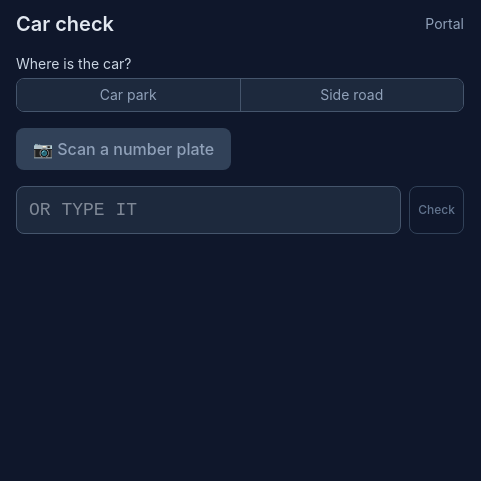
it: Car check › a car with a licence today reads allowed, with its bay and holder
Step 1. Click the radio button labelled "Car park" → (128, 95), box x1=17 y1=79 x2=240 y2=111
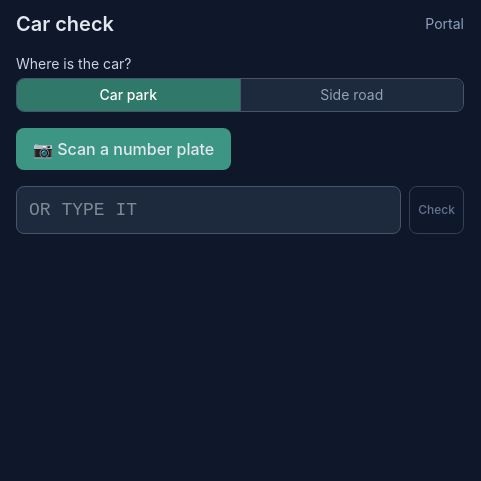
Step 2. Type "AB12 CDE" into the field with placeholder "Or type it" → (209, 210), box x1=16 y1=186 x2=401 y2=234
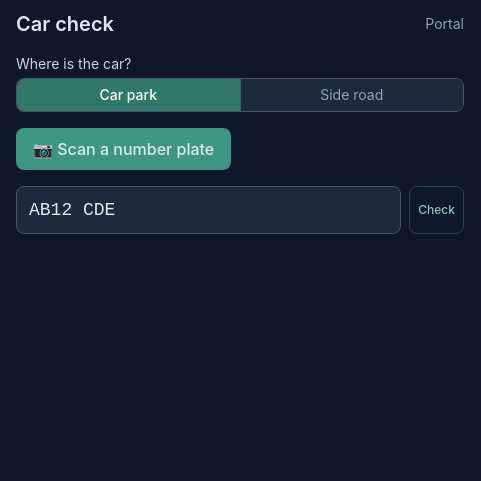
Step 3. Click the button "Check" → (437, 210), box x1=409 y1=186 x2=464 y2=234
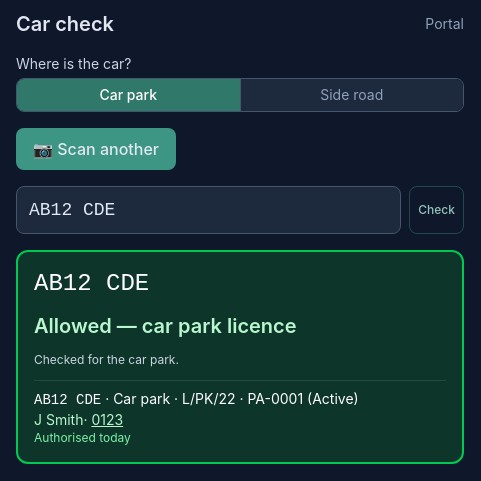
Now the element with test id "car-check-result" shows "L/PK/22", box x1=101 y1=390 x2=359 y2=407
Now the element with test id "car-check-result" shows "J Smith", box x1=34 y1=411 x2=83 y2=428
